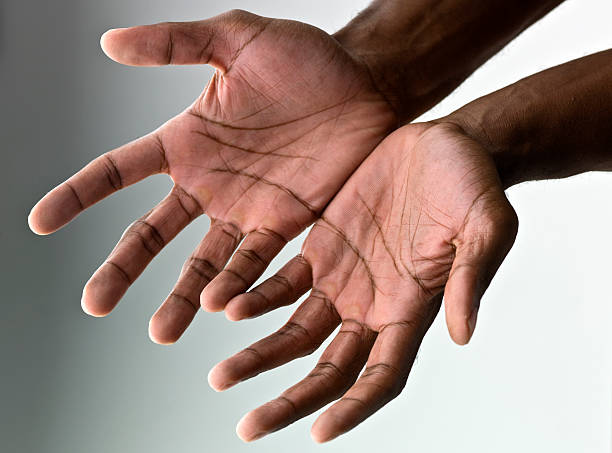hand: (14, 5, 535, 449)
